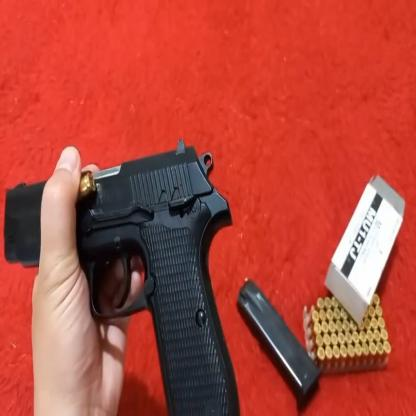handgun: (7, 157, 246, 416)
